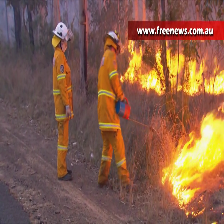fire_h: (163, 104, 224, 216), (119, 40, 223, 94)
fire_l: (192, 207, 206, 216), (211, 220, 217, 224)
